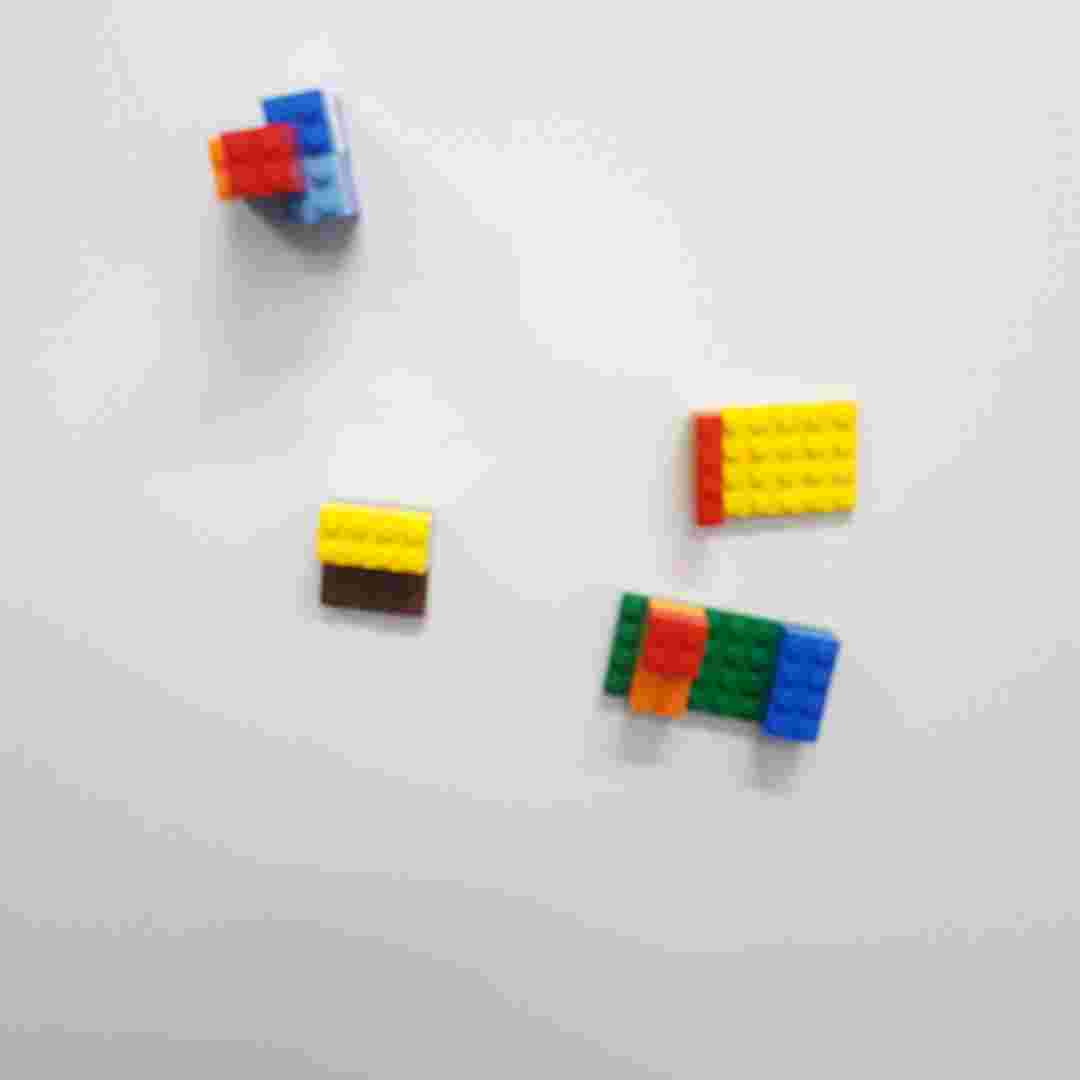LEGO: (598, 590, 842, 749), (676, 400, 868, 536), (204, 88, 357, 230), (304, 497, 443, 622)
